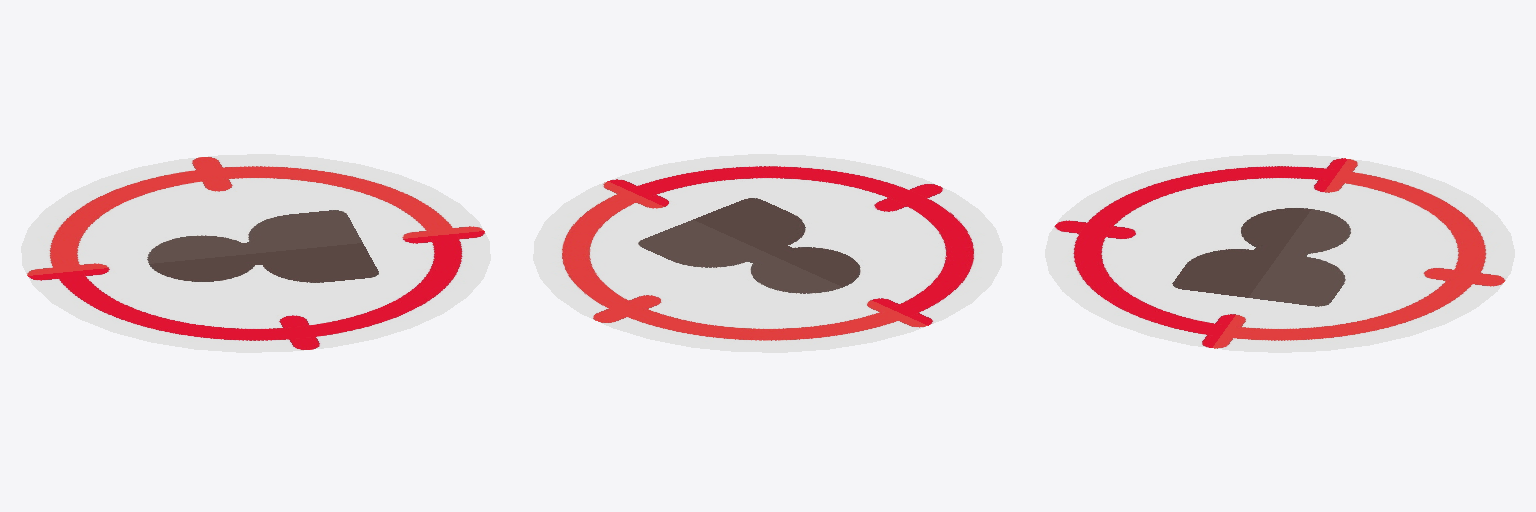
The picture shows the model from 3 angles: view 1: azimuth 30°, elevation 25°; view 2: azimuth 150°, elevation 25°; view 3: azimuth 270°, elevation 25°; orthographic projection.
Visible parts, largest first — view 1: Cone; view 2: Cone; view 3: Cone.
Boxes of the visible parts, x1=… form: Cone: x1=21, y1=154, x2=490, y2=352; Cone: x1=533, y1=154, x2=1002, y2=352; Cone: x1=1045, y1=154, x2=1514, y2=352.
Size of the model in its own units: 2 by 0.0236 by 2.
1 materials, 1 textured.